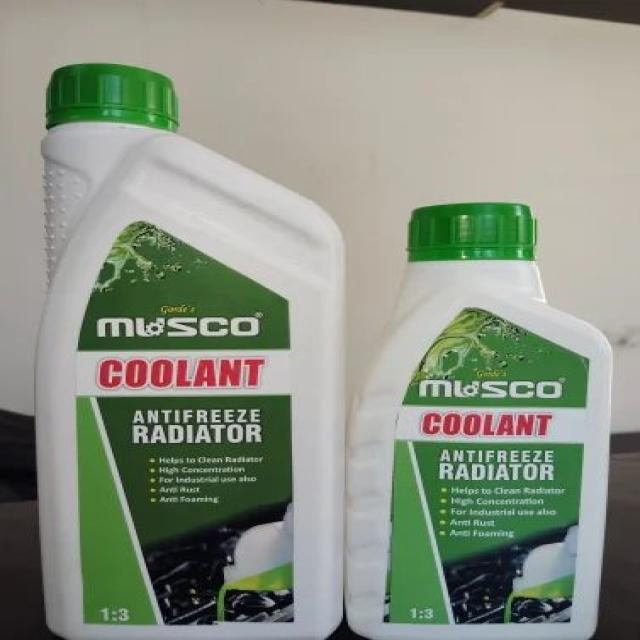coolant: (32, 62, 345, 640), (351, 205, 617, 640)
